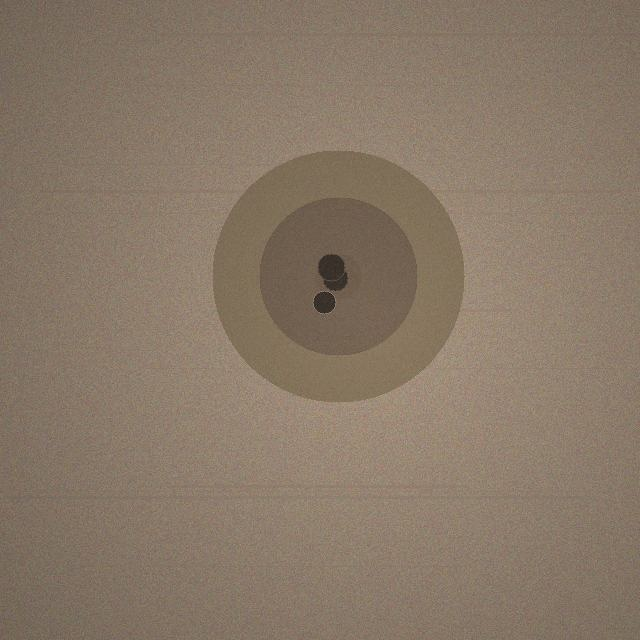shrinkage: (212, 150, 464, 402)
